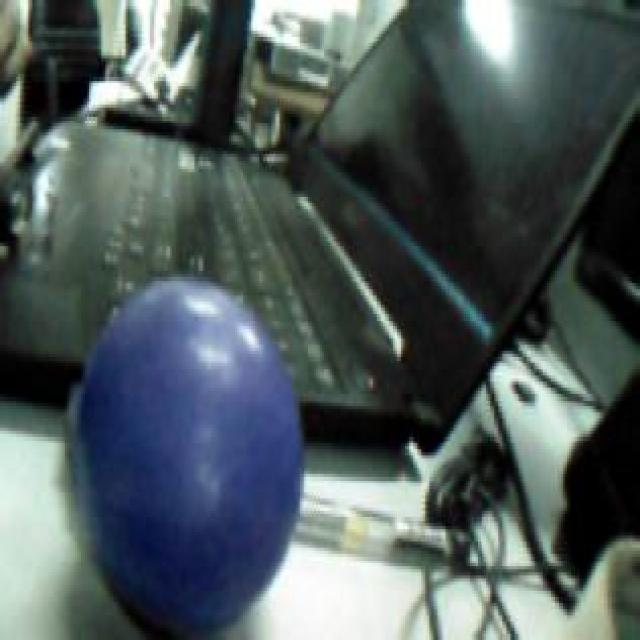BallPurple: (65, 275, 304, 635)
